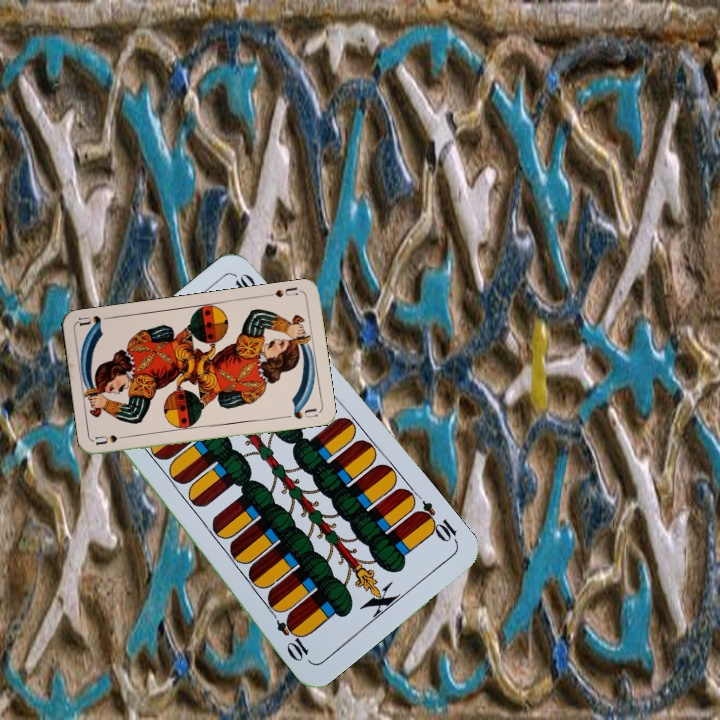E10: (411, 497, 461, 546)
SU: (92, 431, 133, 449), (263, 283, 300, 300)
